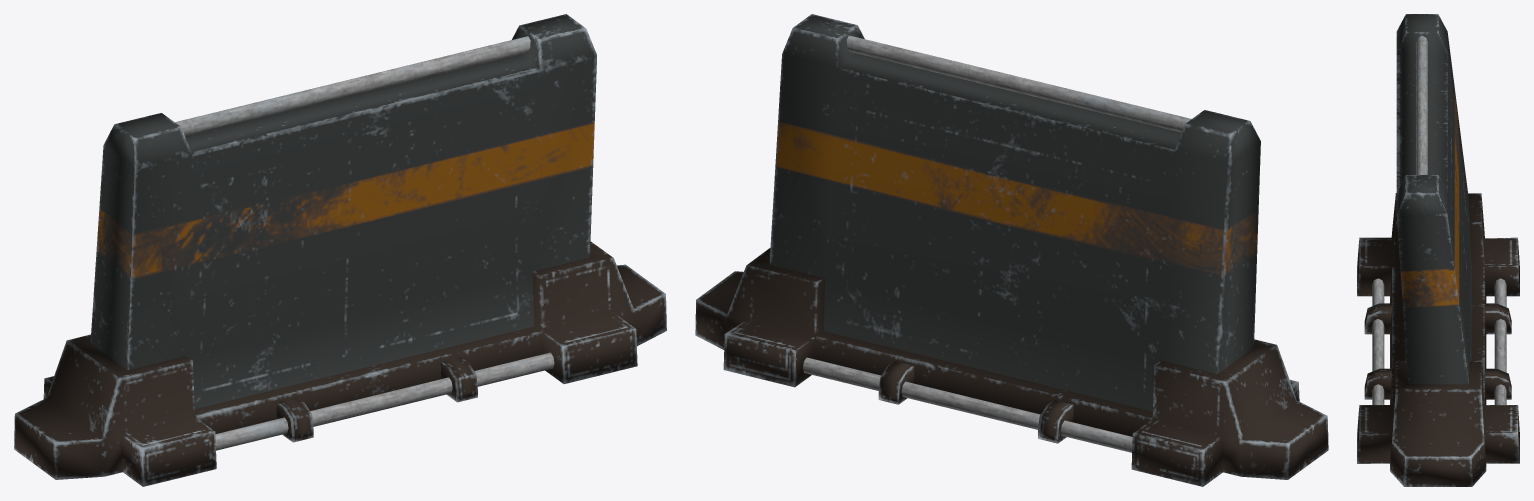
The model's file is Barricade_mdl.fbx.
3 views of the same model, side by side, from view 1: azimuth 30°, elevation 25°; view 2: azimuth 150°, elevation 25°; view 3: azimuth 270°, elevation 25° (orthographic). The views are drawn at different scales.
Parts seen in each view (by area): view 1: Barricade_mdl; view 2: Barricade_mdl; view 3: Barricade_mdl.
Boxes of the visible parts, x1=… form: Barricade_mdl: x1=14, y1=14, x2=666, y2=486; Barricade_mdl: x1=695, y1=14, x2=1328, y2=486; Barricade_mdl: x1=1357, y1=14, x2=1519, y2=486.
Bounding box in the file's own units: 54.13 × 27.17 × 15.34.
